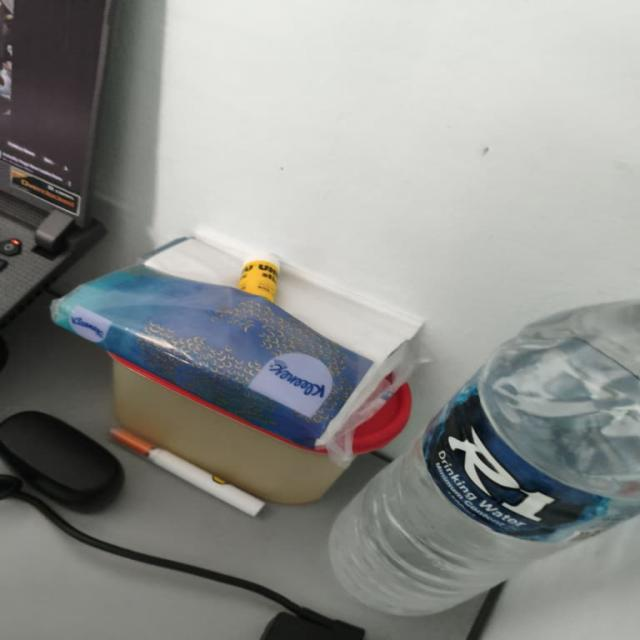glue: (239, 252, 279, 302)
